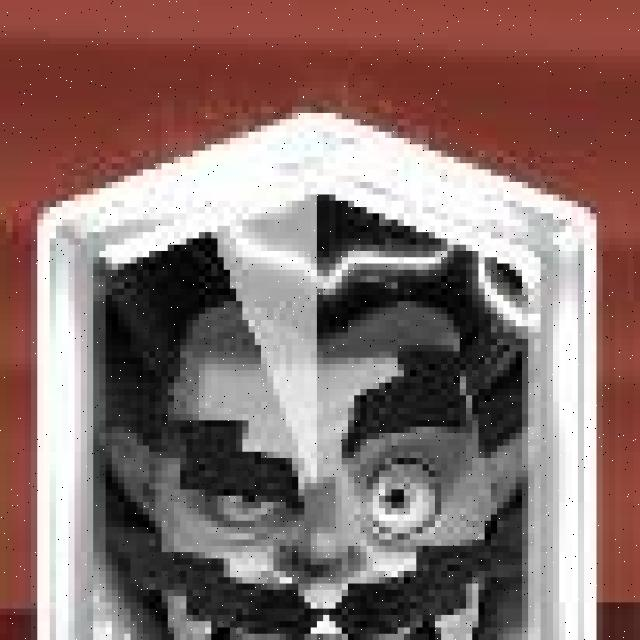Electro_Wizard: (39, 113, 602, 640)
